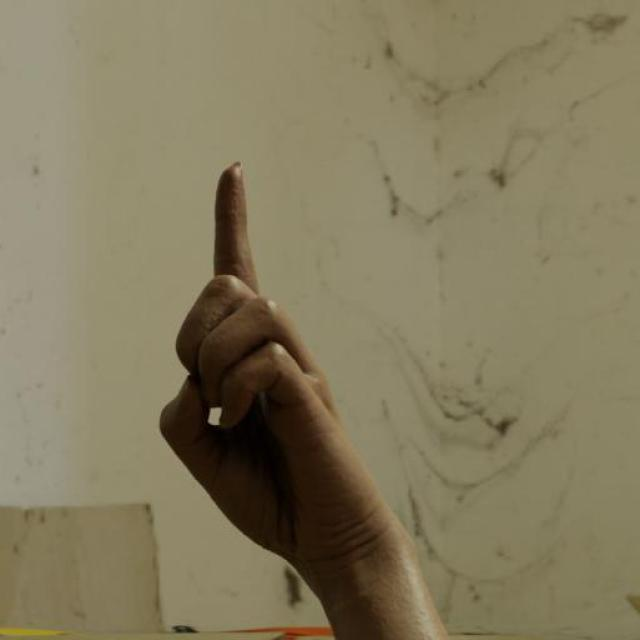D: (156, 160, 393, 570)
